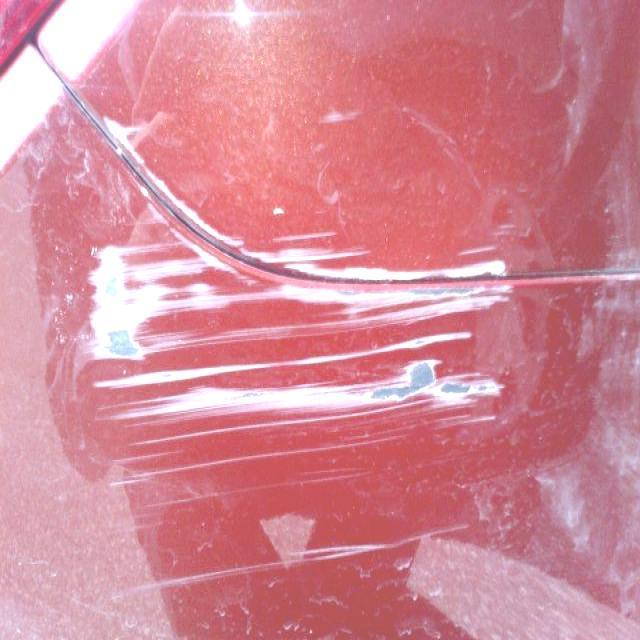minor: (110, 407, 454, 487), (293, 537, 421, 565)
moderate: (84, 237, 519, 421), (98, 112, 501, 285)
